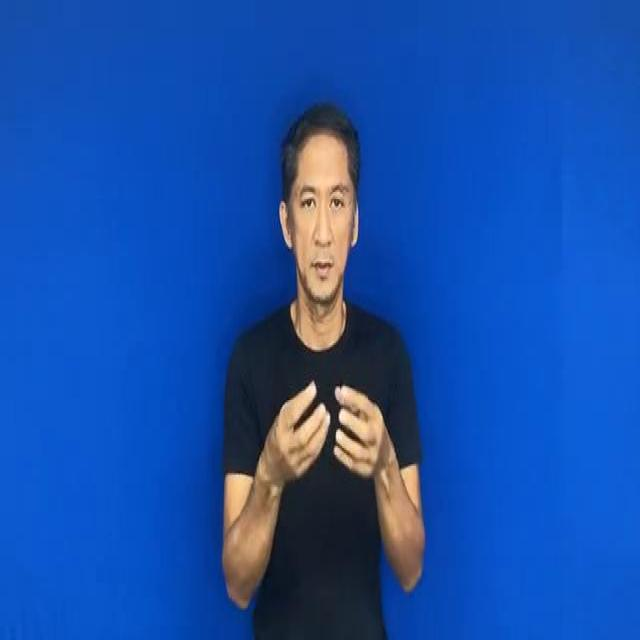egg: (252, 356, 404, 504)
